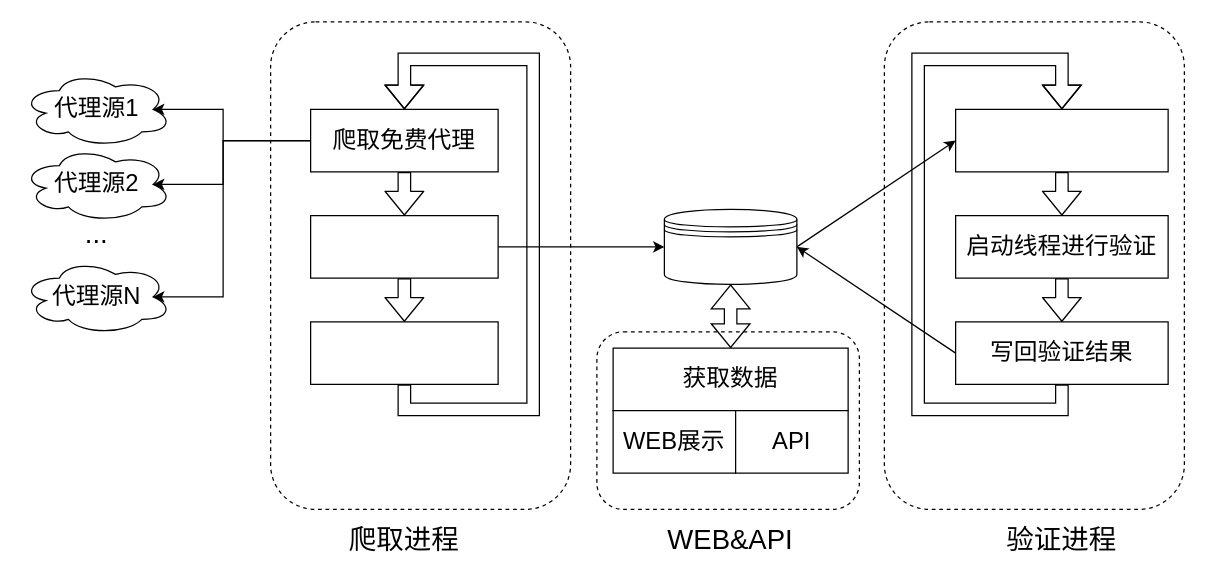
This 1206x581 diagram has some shape labels left out. Here are the shapes that lost their labels. From the top down, the centre of each, then its label:
point 1061,140: 获取待验证的代理
point 403,246: 添加到数据库中
point 730,246: SQLite
point 403,352: 睡眠一段时间
